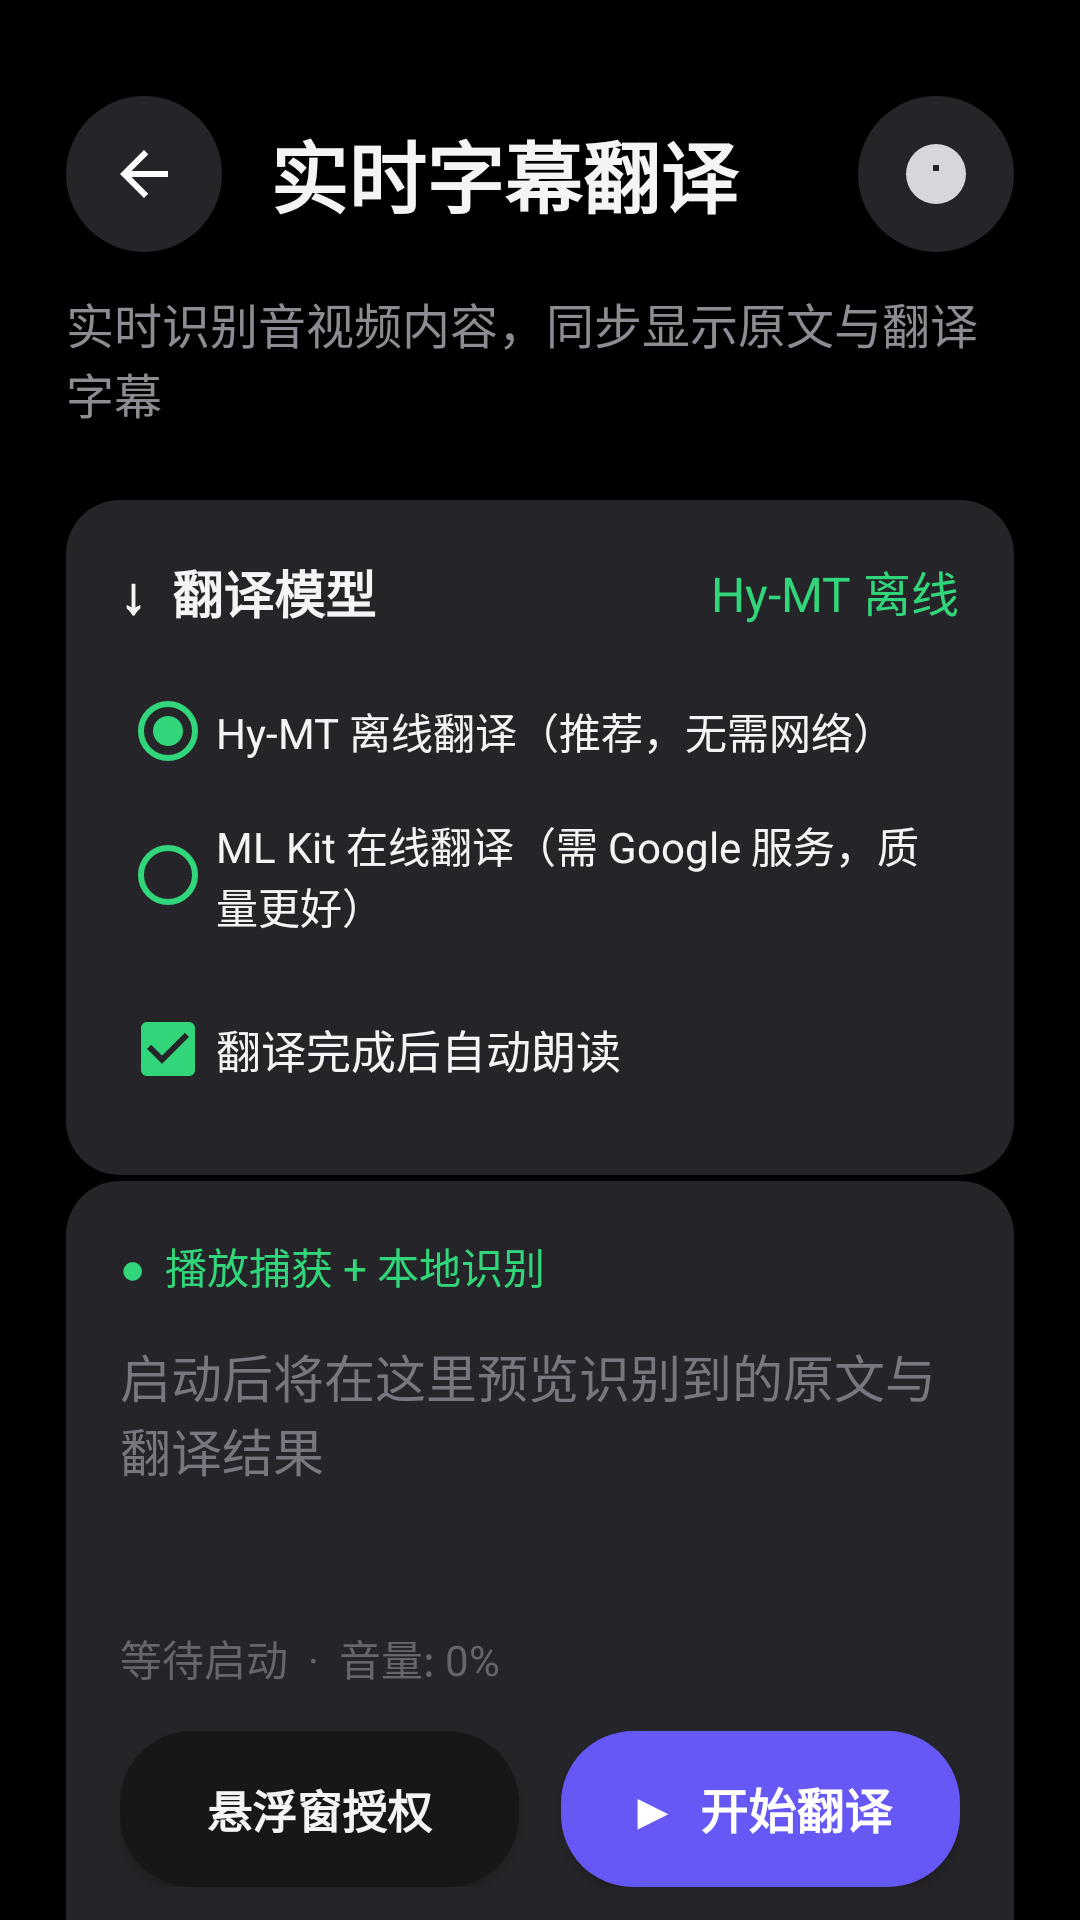

Icon bounding boxes for this 1080px×1920px phone screenshot, format {"left": x1, "top": y1, "right": x2, "bottom": y2}:
返回: {"left": 66, "top": 96, "right": 222, "bottom": 252}
